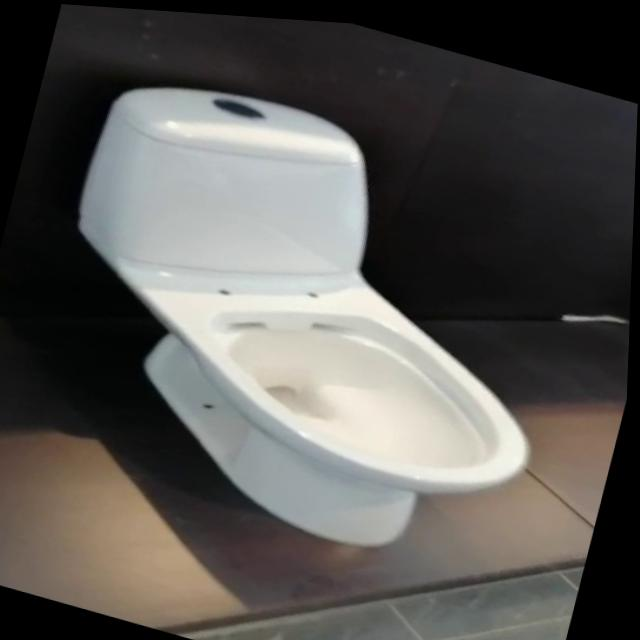toilet: (16, 49, 602, 585)
